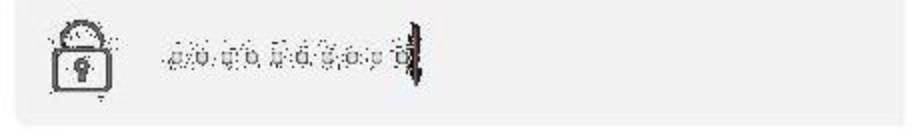EditText: (1, 1, 921, 139)
